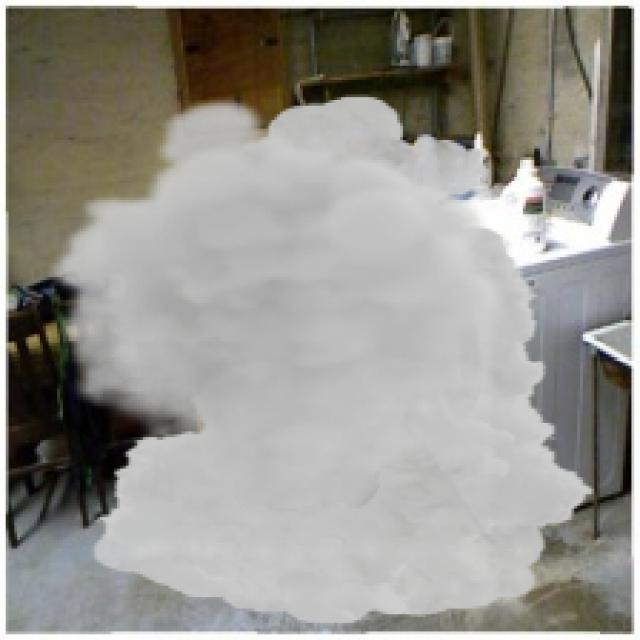smoke: (49, 94, 597, 626)
